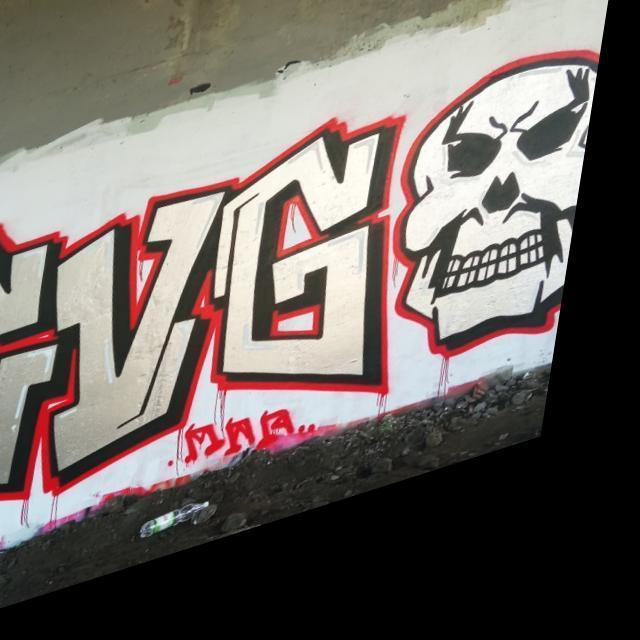nonspitting: (0, 112, 408, 500), (394, 47, 600, 356), (186, 410, 321, 458)
